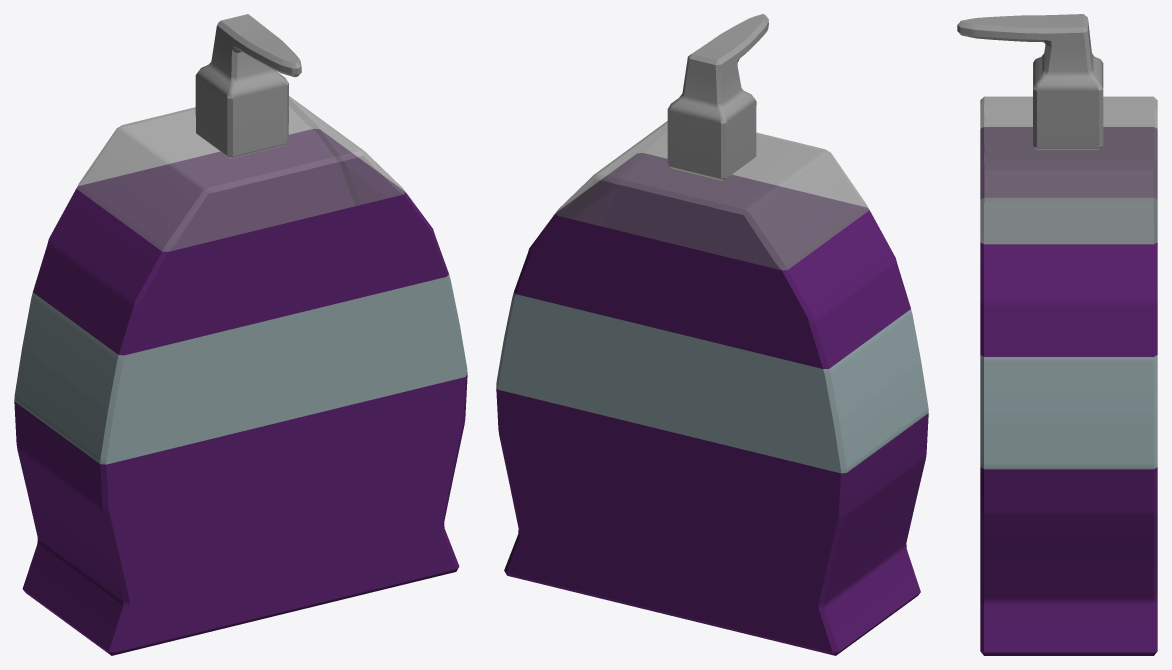
Rendered from Soap_Bottle.fbx.
3 views of the same model, side by side, from view 1: azimuth 30°, elevation 25°; view 2: azimuth 150°, elevation 25°; view 3: azimuth 270°, elevation 25° (orthographic). The views are drawn at different scales.
Visible parts, largest first — view 1: Soap_Bottle; view 2: Soap_Bottle; view 3: Soap_Bottle.
Part boxes in pixels (<box>): Soap_Bottle: <box>14,14,467,655</box>; Soap_Bottle: <box>496,14,928,655</box>; Soap_Bottle: <box>957,14,1157,655</box>.
Size of the model in its own units: 0.073 by 0.1063 by 0.035.
